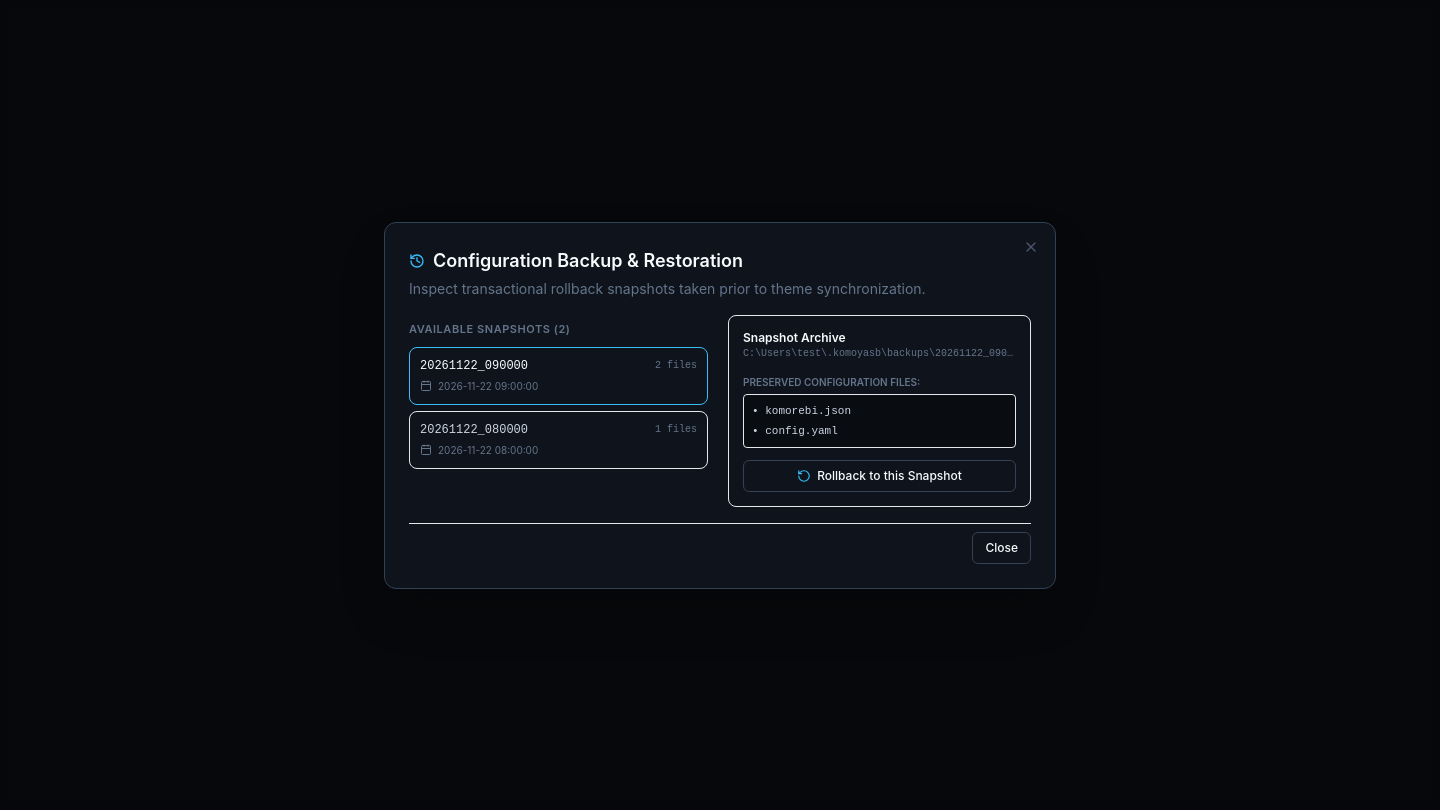
Test case: BackupRestoreModal Component › prompts confirmation and restores selected snapshot
Click Rollback button to open confirmation
Step 1. Click the button "Rollback to this Snapshot" → coordinates (880, 476), box [743,460,1016,492]
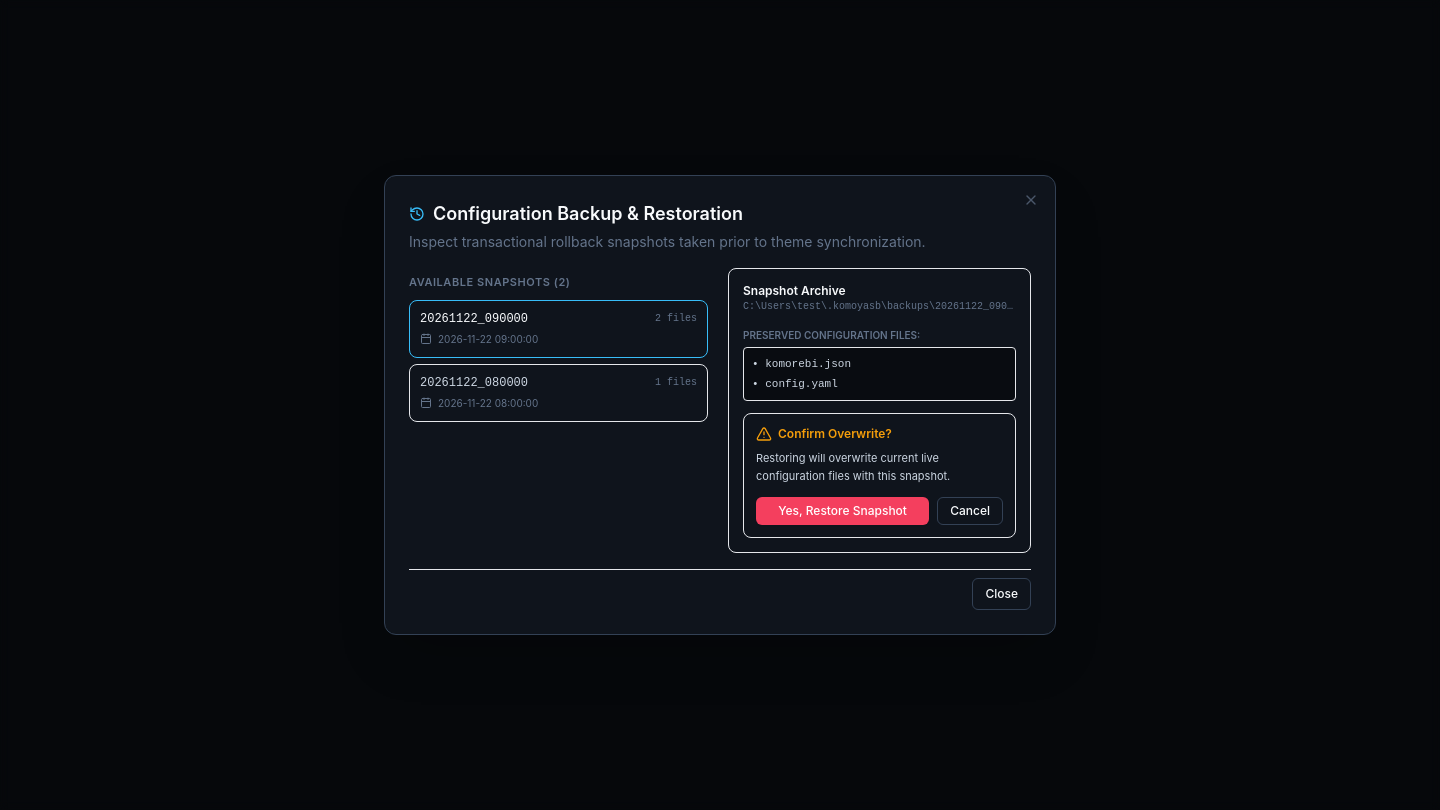
Result: the text "Confirm Overwrite?" is shown at [778,426,892,442]
Click confirm restore
Step 2. Click the button "Yes, Restore Snapshot" → coordinates (843, 511), box [756,497,929,525]
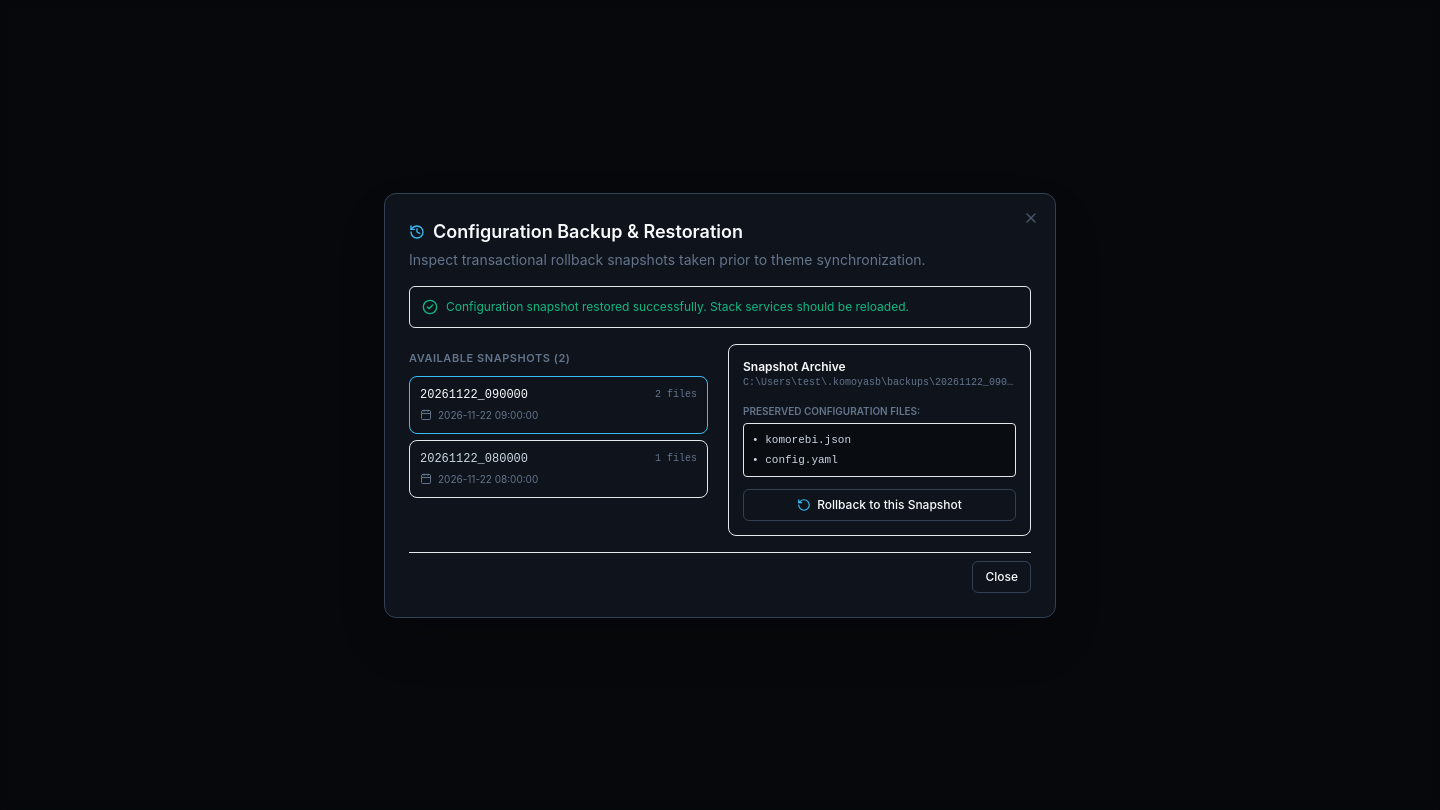
Result: the text "Configuration snapshot restored successfully" is shown at [446,298,909,314]
